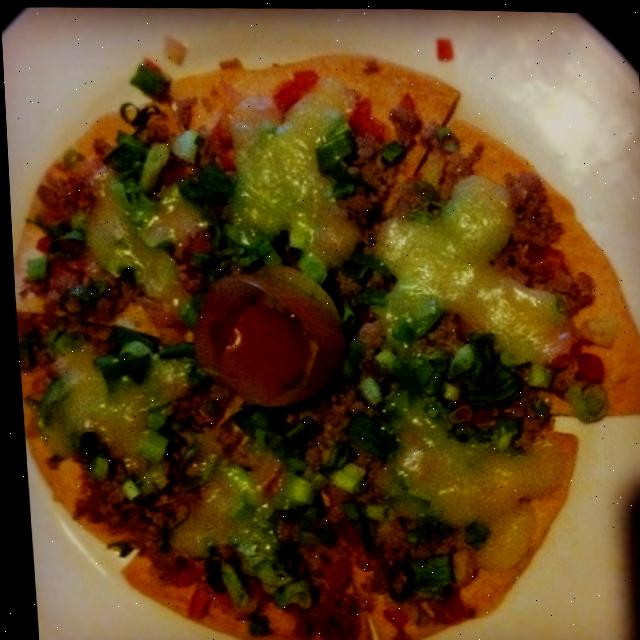面包点心: (1, 21, 638, 640)
